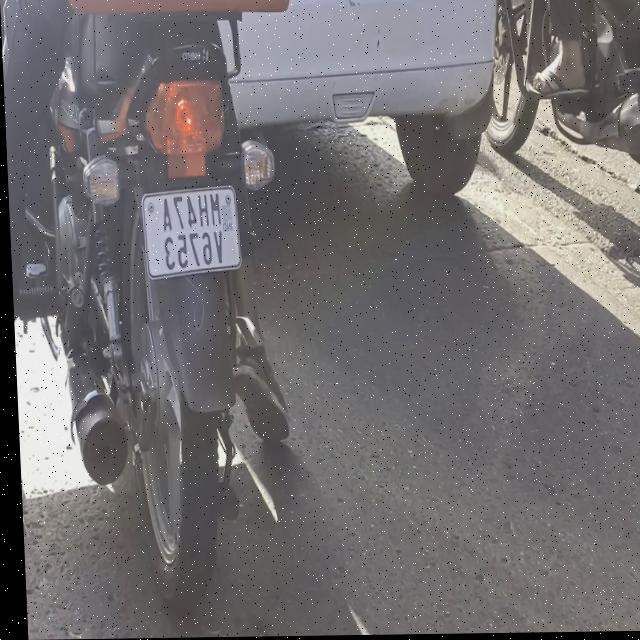plate: (139, 184, 241, 279)
